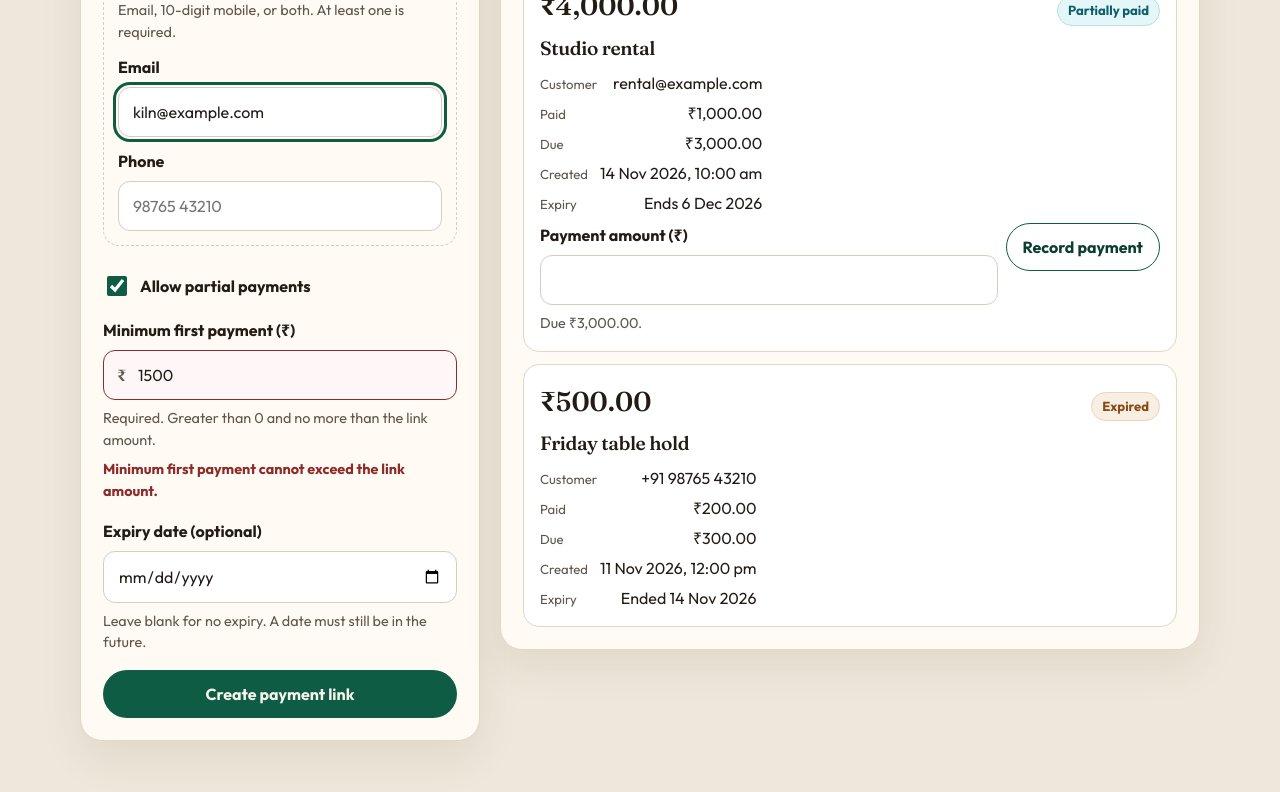
it: payment links dashboard › records a partial payment and keeps the link after a reload
Earlier steps of the test are not shown.
Later steps or results of the test are not shown.
(page scrolled)
Click the button "Create payment link" at (280, 694), box [103,670,457,718]
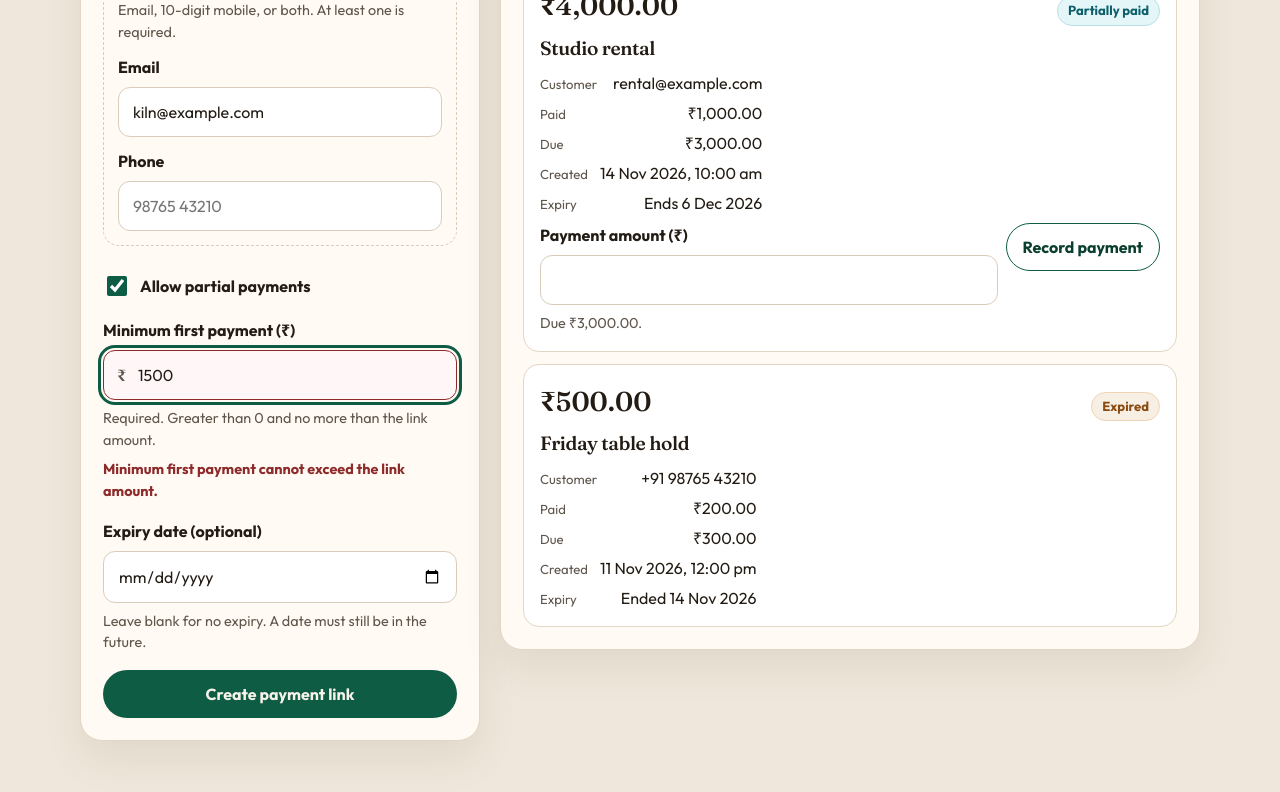
Expected: the text "Minimum first payment cannot exceed the link amount." is shown, [103,459,457,503]
Clear the field labelled "Minimum first payment (₹)" at (280, 375), box [103,350,457,400]
(page scrolled)
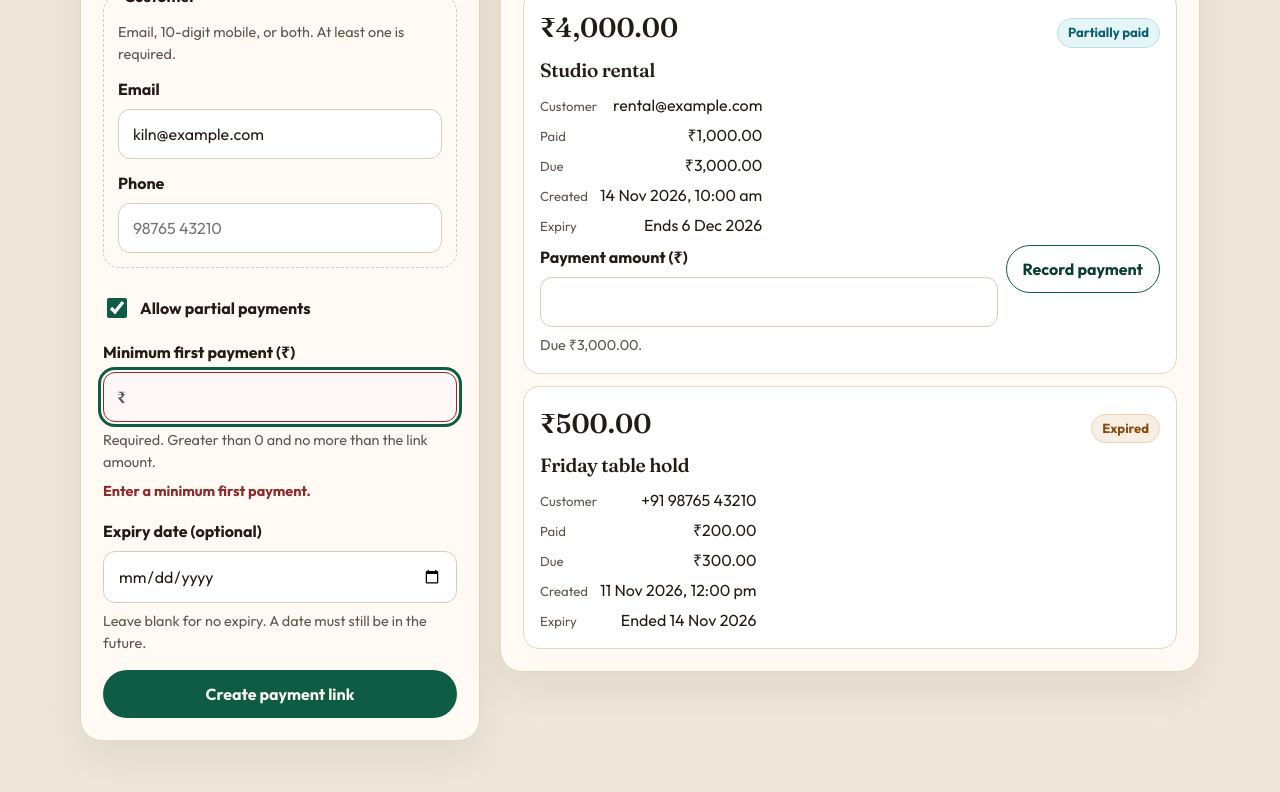
Type "400" into the field labelled "Minimum first payment (₹)" at (280, 397), box [103,372,457,422]
(page scrolled)
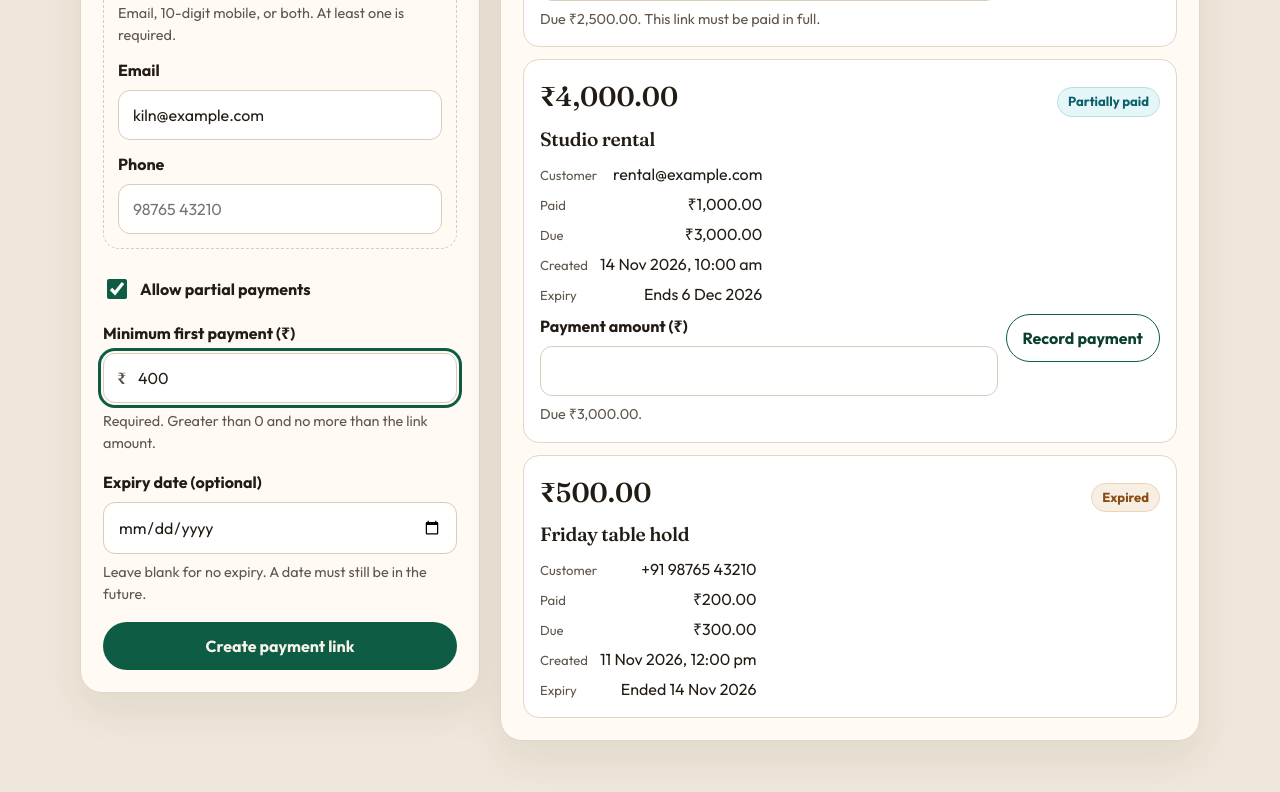
Click the button "Create payment link" at (280, 646), box [103,622,457,670]
(page scrolled)
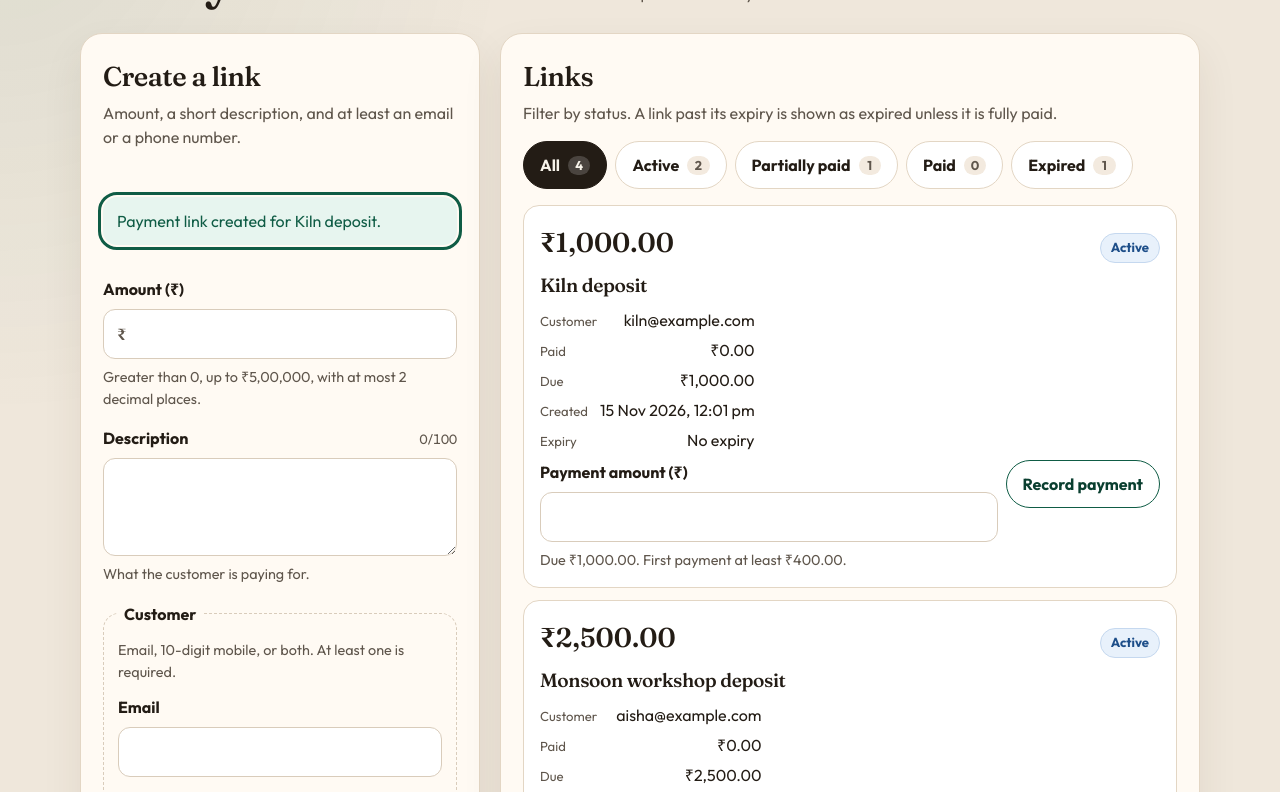
Expected: the element "Kiln deposit" shows "Active", [1111,239,1149,255]
Expected: the element "Kiln deposit" shows "₹0.00", [710,340,755,360]
Expected: the element "Kiln deposit" shows "₹1,000.00", [540,225,674,259]
Type "100" into the field labelled "Payment amount (₹)" at (769, 517), box [540,492,998,542]
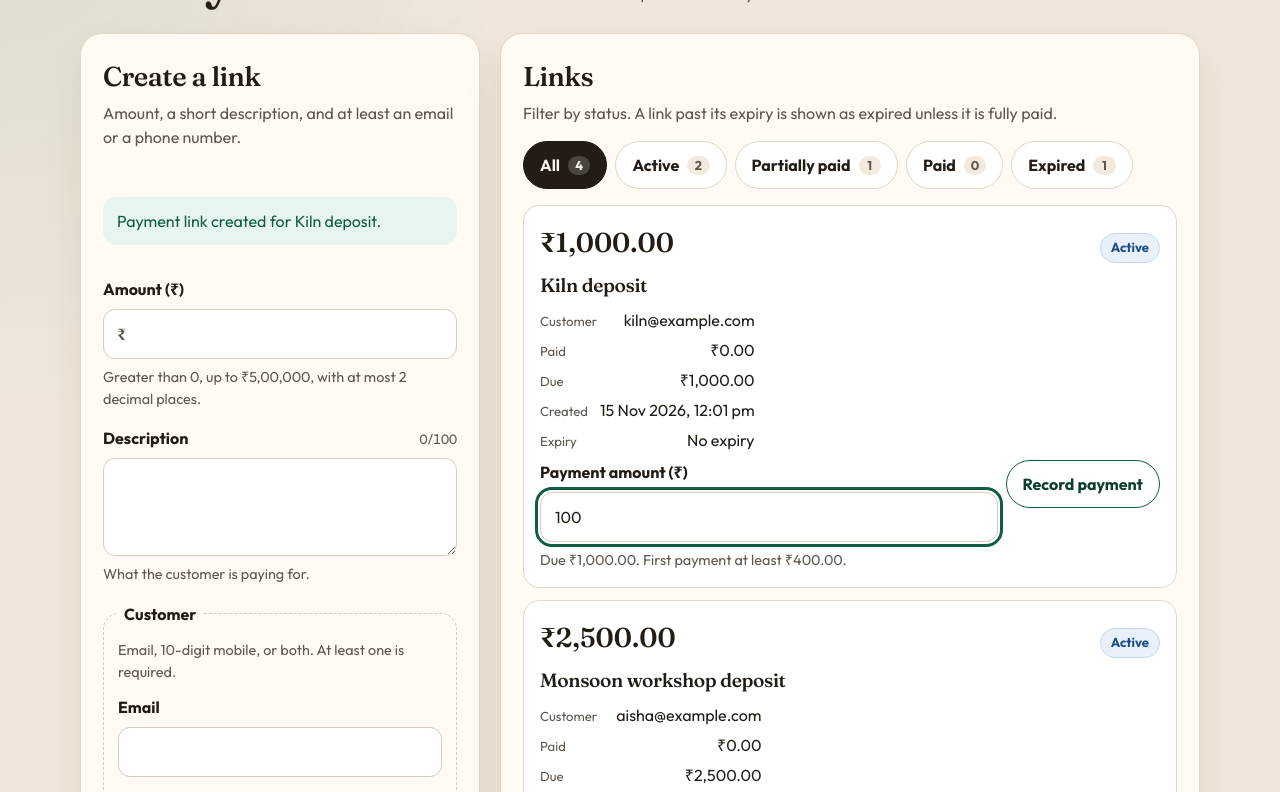
Click the button with aria-label "Record payment for Kiln deposit" at (1083, 484), box [1006,460,1160,508]
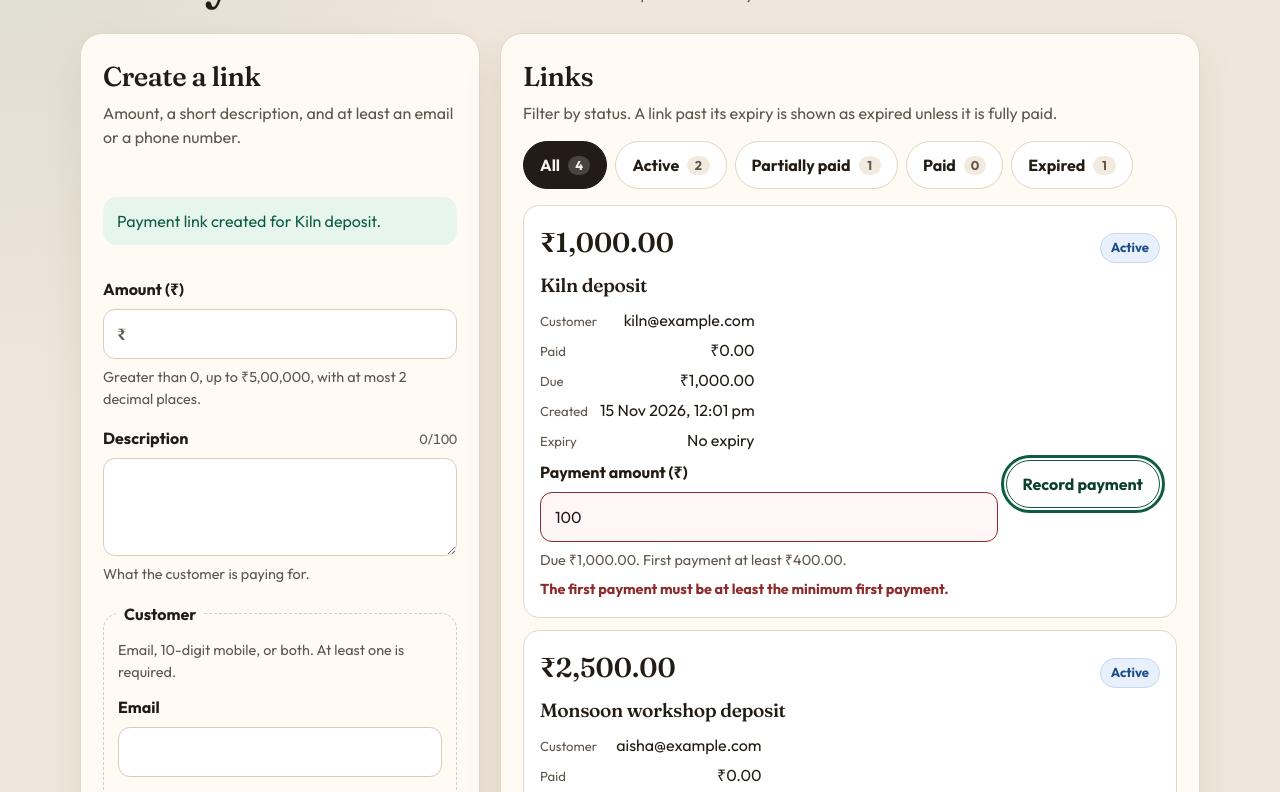
Expected: the text "The first payment must be at least the minimum first payment." is shown, [540,580,948,598]
